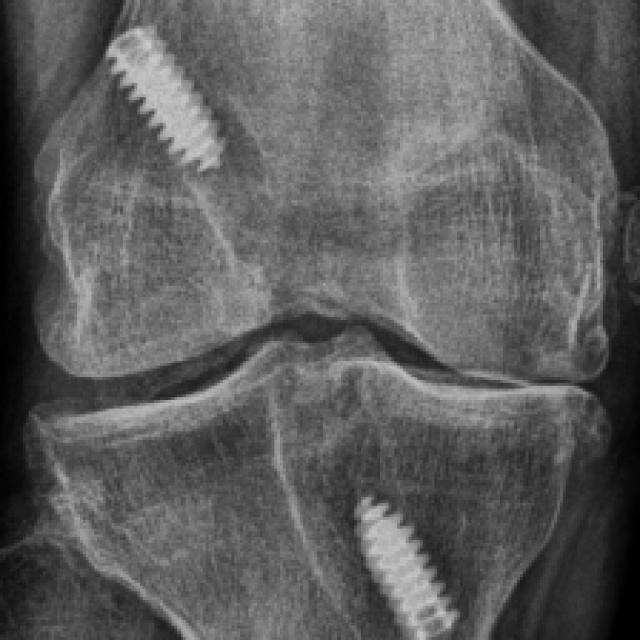femur: (33, 0, 619, 384)
tibia: (23, 326, 613, 640)
